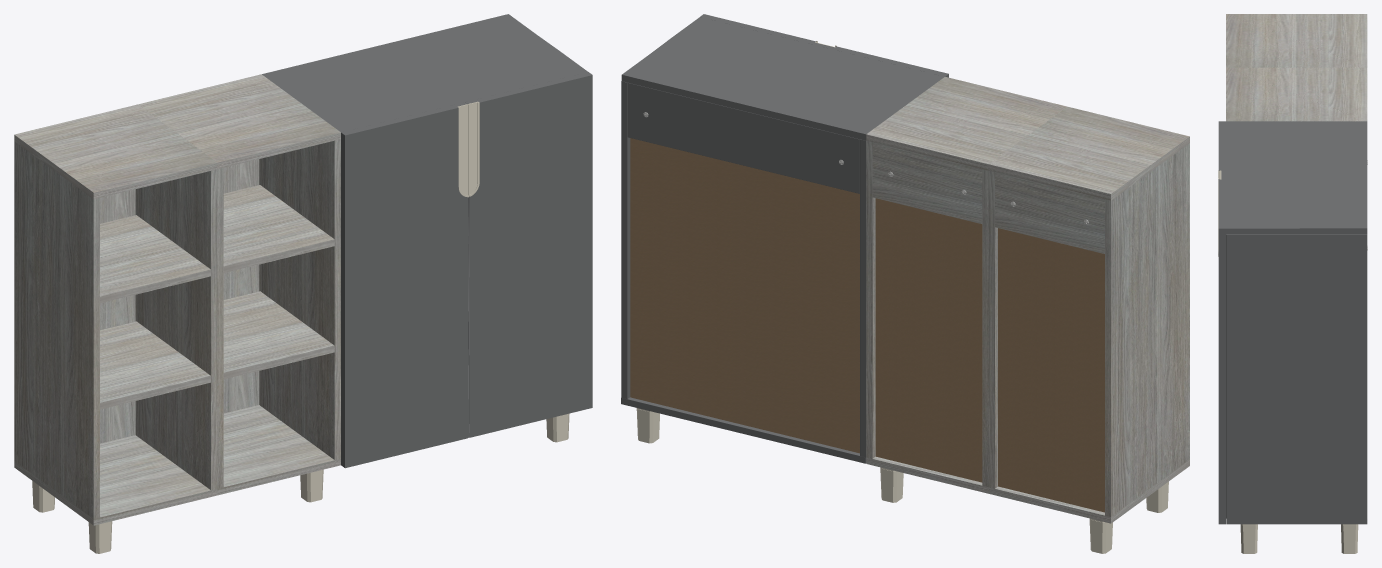
The picture shows the model from 3 angles, left to right: view 1: azimuth 30°, elevation 25°; view 2: azimuth 150°, elevation 25°; view 3: azimuth 270°, elevation 25°; orthographic projection. The views are drawn at different scales.
Parts seen in each view (by area): view 1: group_0.467, Cube.001, Cube.005, group_0.115; view 2: Cube.001, group_0.369, Cube.005, group_0.467, group_0.115; view 3: group_0.467, Cube.005, Cube.001, group_0.115.
Part boxes in pixels (x1,y1,x2,y2): group_0.467: [262, 14, 592, 468]; Cube.001: [14, 104, 217, 525]; Cube.005: [138, 74, 340, 495]; group_0.115: [32, 101, 569, 553]; Cube.001: [988, 106, 1189, 523]; group_0.369: [630, 138, 859, 453]; Cube.005: [866, 77, 1066, 493]; group_0.467: [621, 14, 948, 463]; group_0.115: [636, 41, 1168, 553]; group_0.467: [1218, 121, 1367, 524]; Cube.005: [1226, 67, 1367, 121]; Cube.001: [1226, 14, 1367, 67]; group_0.115: [1218, 170, 1358, 553].
Bounding box in the file's own units: 1.4 × 1 × 0.4114.
Materials: 5 (2 with a texture image).
